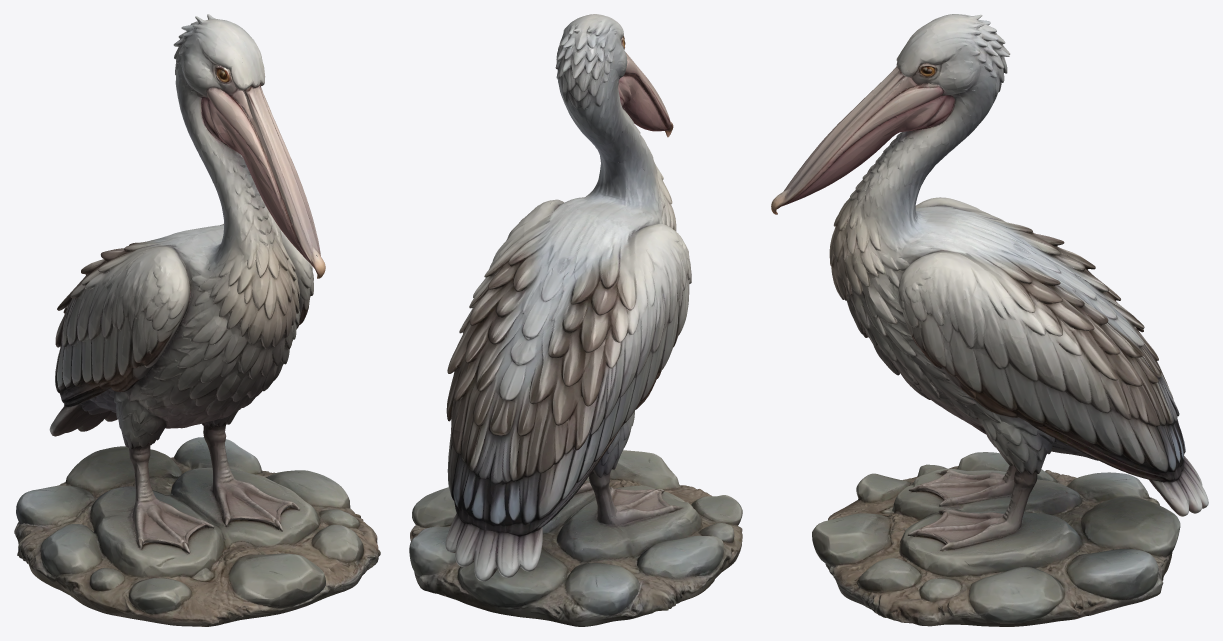
File: Pelican.glb
3 views of the same model, side by side, from view 1: azimuth 30°, elevation 25°; view 2: azimuth 150°, elevation 25°; view 3: azimuth 270°, elevation 25° (orthographic). The views are drawn at different scales.
Parts seen in each view (by area): view 1: output_unwrapped; view 2: output_unwrapped; view 3: output_unwrapped.
Boxes of the visible parts, box(x1,y1,x2,y2) form: output_unwrapped: box(14, 14, 380, 626); output_unwrapped: box(409, 14, 742, 626); output_unwrapped: box(771, 14, 1208, 626).
Bounding box in the file's own units: 1.11 × 1.9 × 1.4.
1 material, 1 textured.
